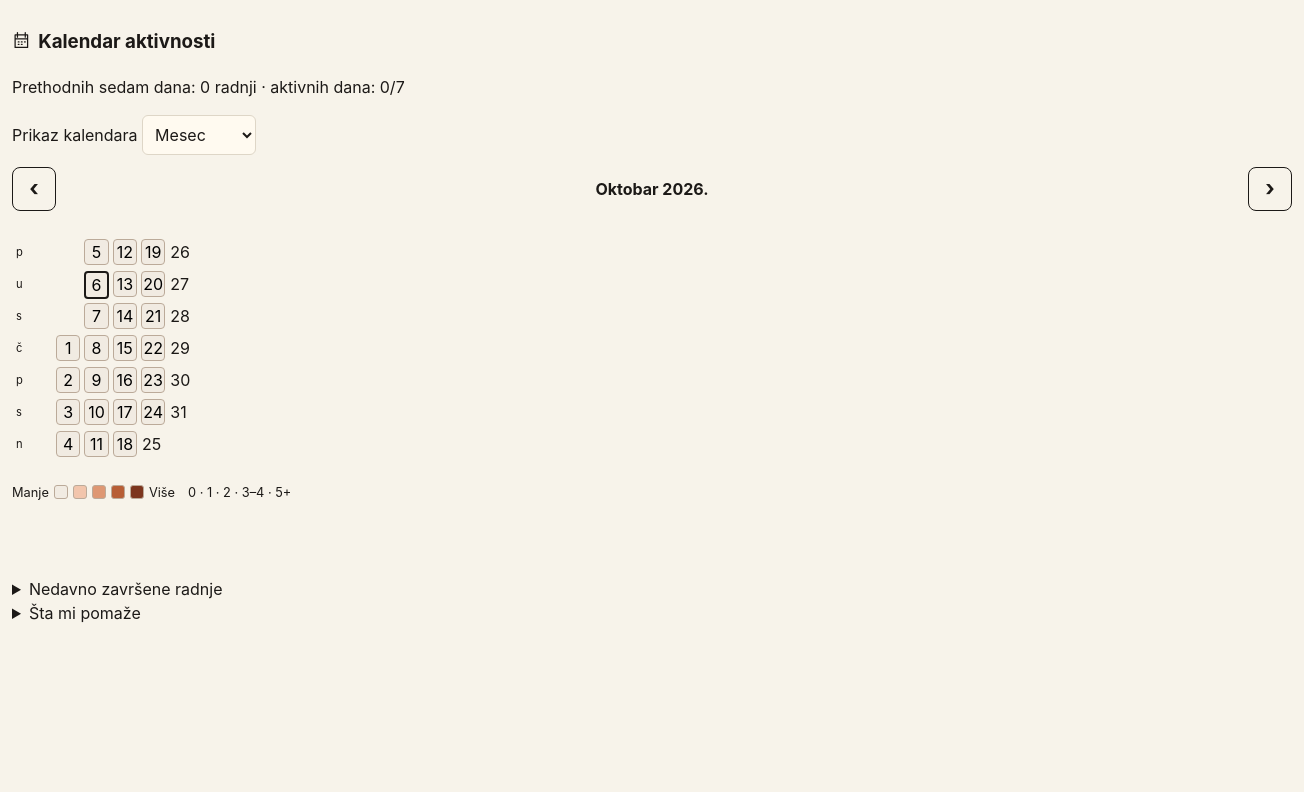
Test case: switches ranges, limits future navigation and returns to recent history in sr-Latn
This screenshot has width=1304, height=792.
Select "Godina" in the dropdown labelled "Prikaz kalendara" at (199, 135), box top-left (142, 115), bottom-right (256, 155)
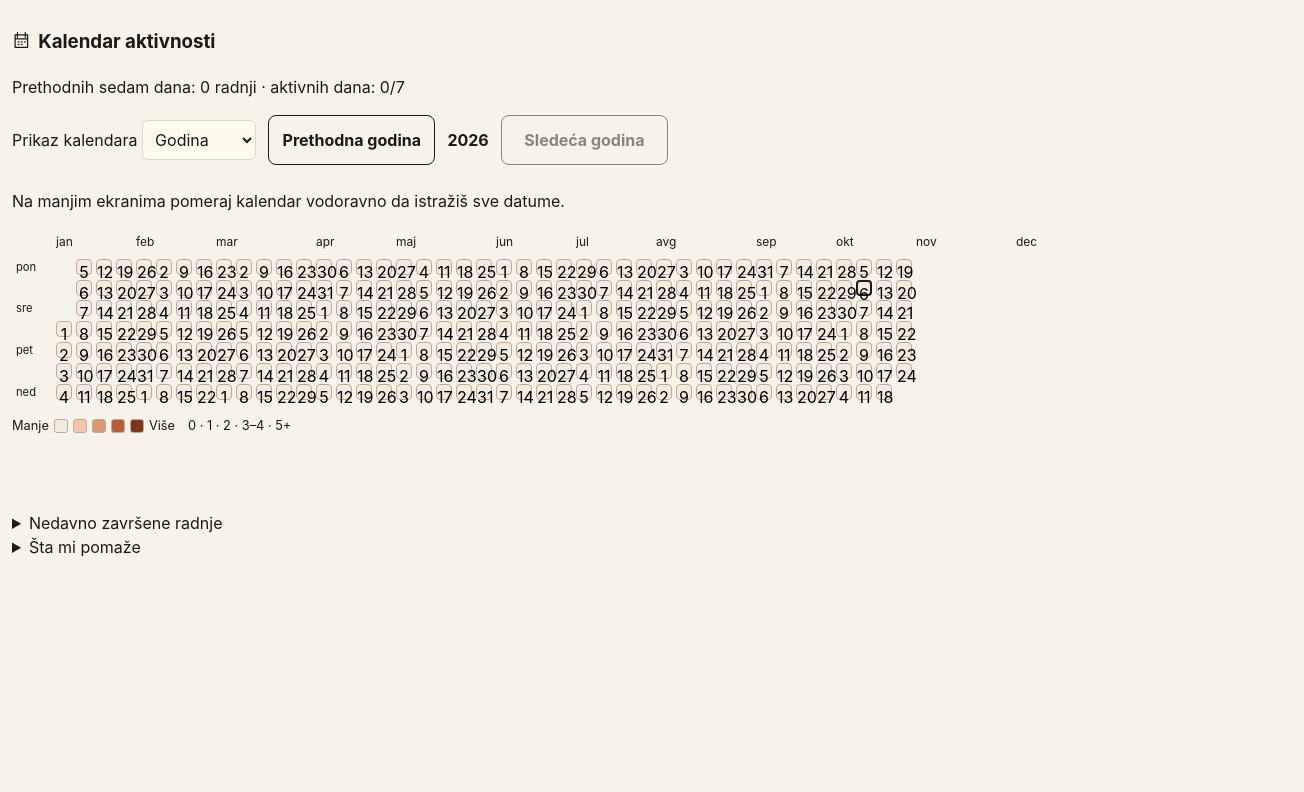
Expected: the button "Sledeća godina" is disabled, top-left (501, 115), bottom-right (668, 165)
Click the button "Prethodna godina" at (352, 140), box top-left (268, 115), bottom-right (435, 165)
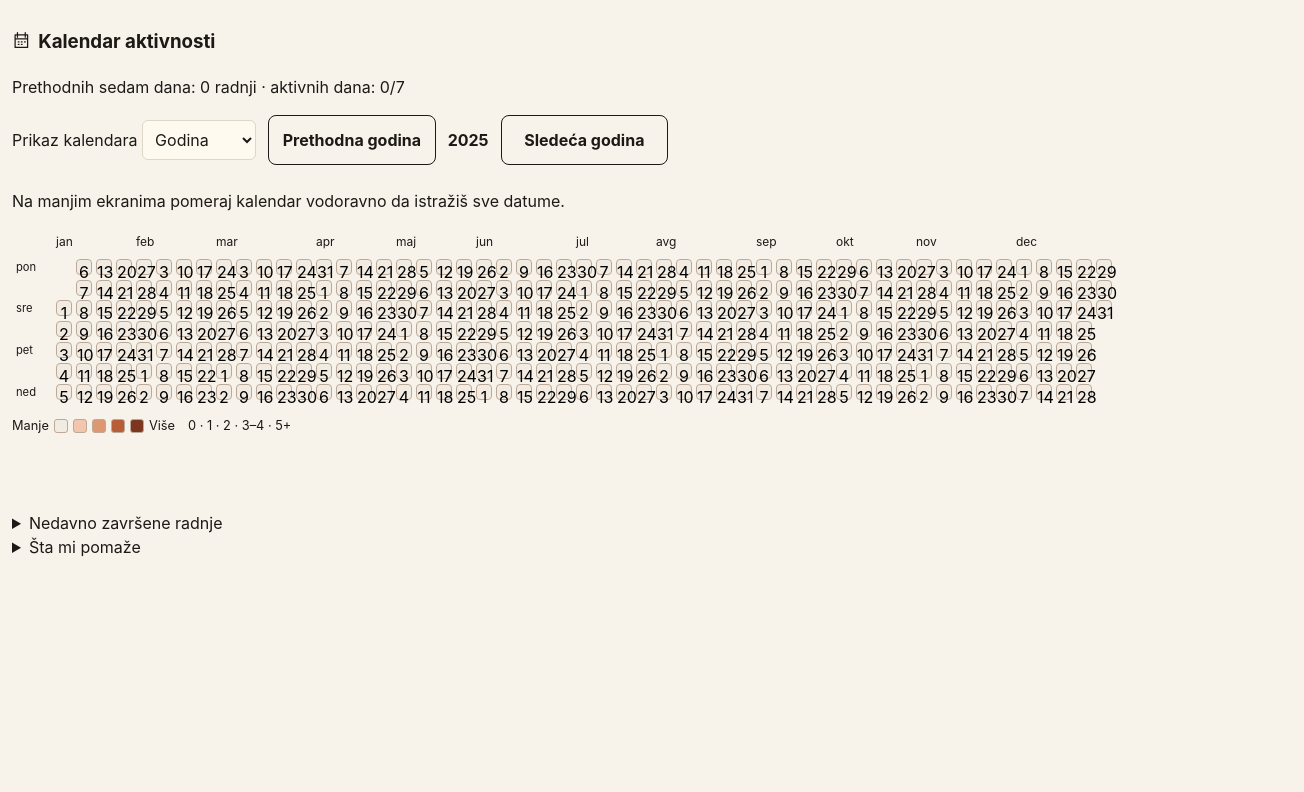
Result: the button "Sledeća godina" is enabled at top-left (500, 115), bottom-right (668, 165)
Click the 5th button "1" at (64, 308), box top-left (56, 300), bottom-right (72, 316)
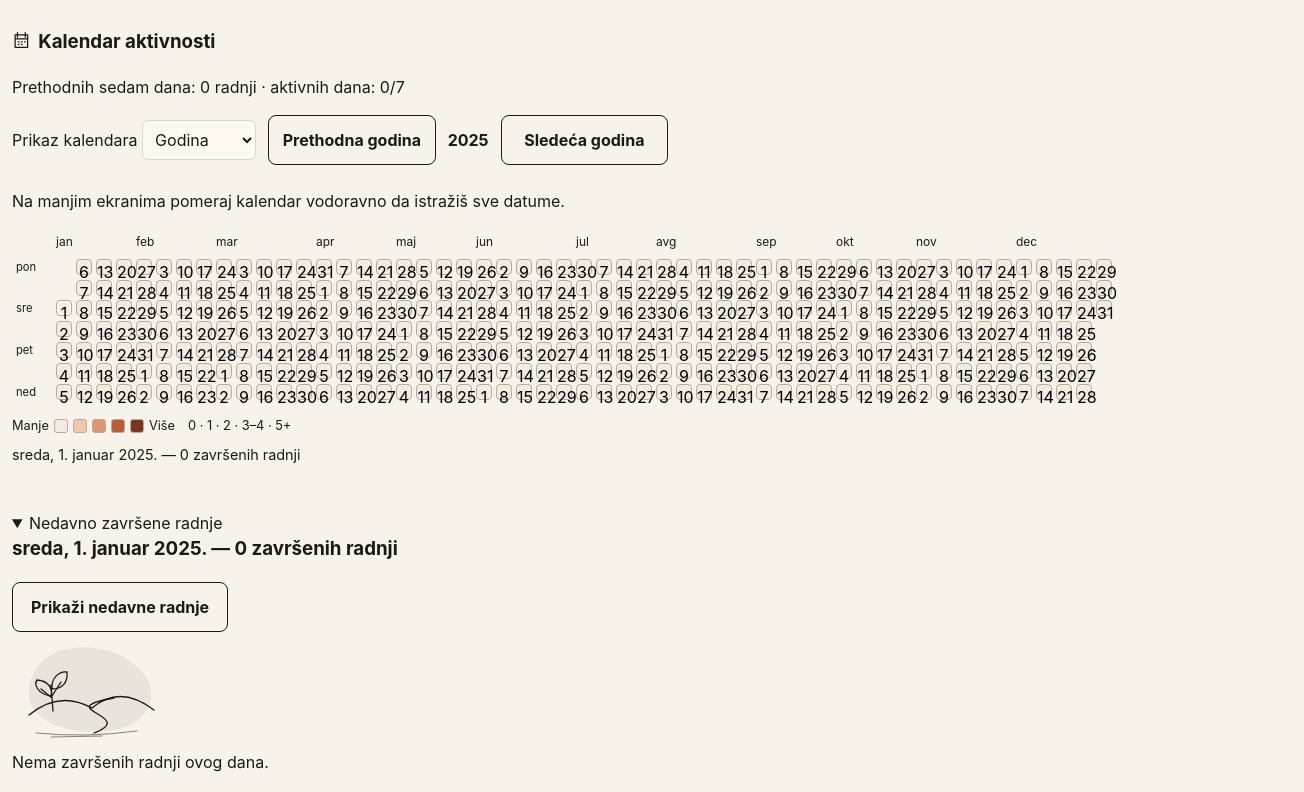
Result: the button "Prikaži nedavne radnje" is shown at top-left (12, 582), bottom-right (228, 632)
Select "12 nedelja" in the dropdown labelled "Prikaz kalendara" at (199, 140), box top-left (142, 120), bottom-right (256, 160)
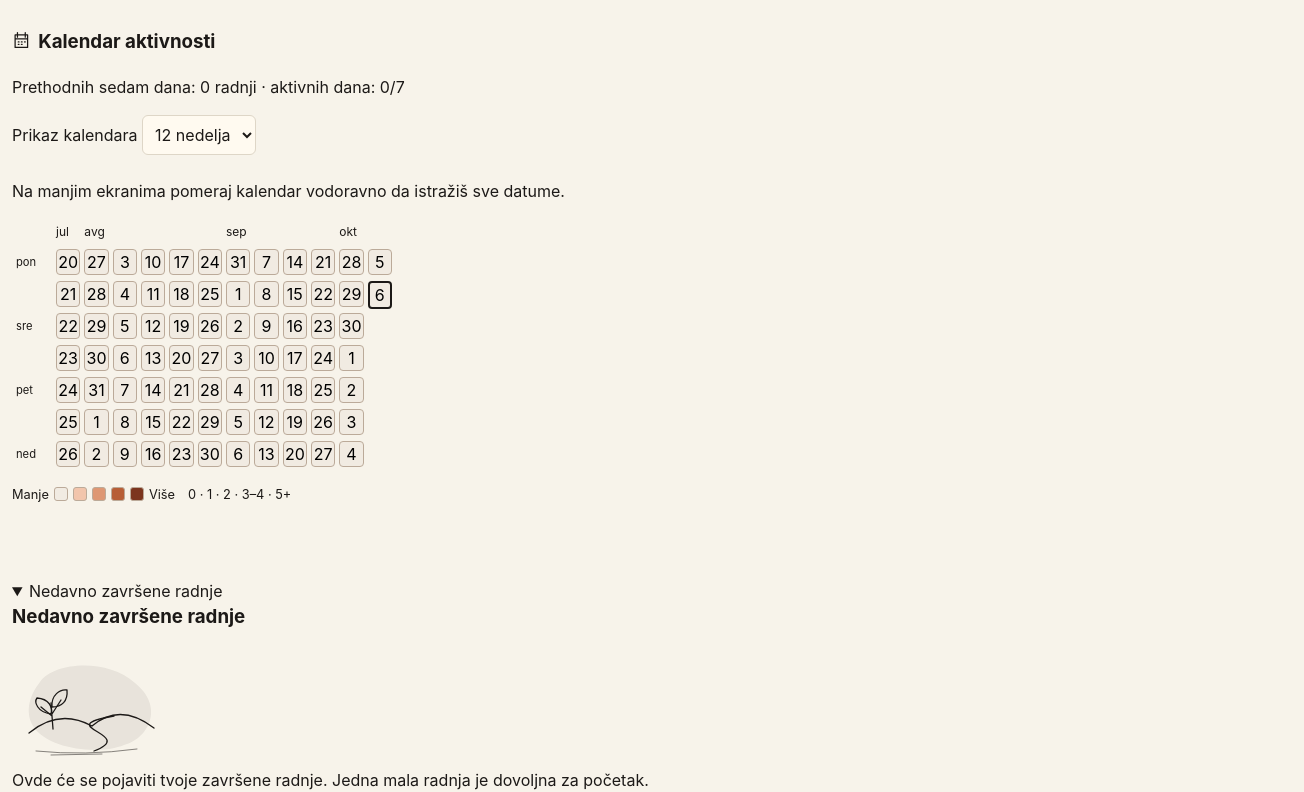
Expected: the element named "Kalendar aktivnosti" is shown, top-left (56, 249), bottom-right (392, 469)
Result: the button "Prikaži nedavne radnje" is gone
